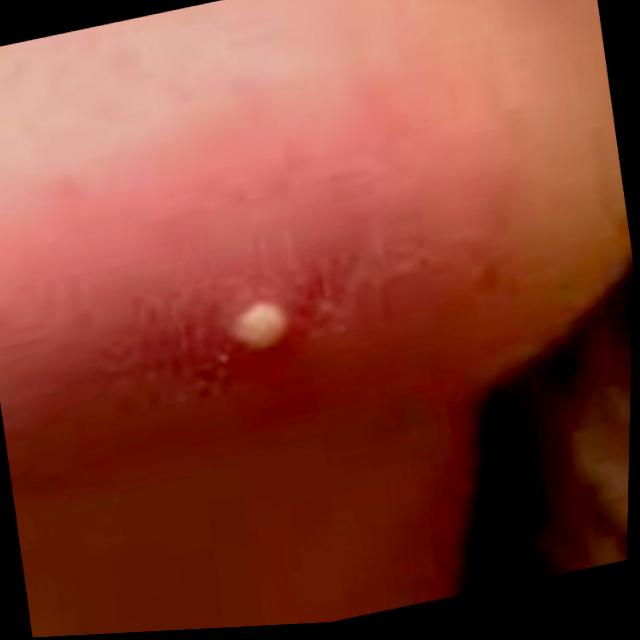pustule: (171, 249, 338, 405)
